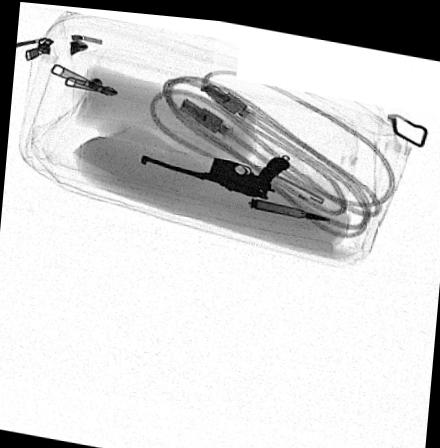Bullet: (247, 191, 332, 212)
Gun: (139, 149, 291, 192)
